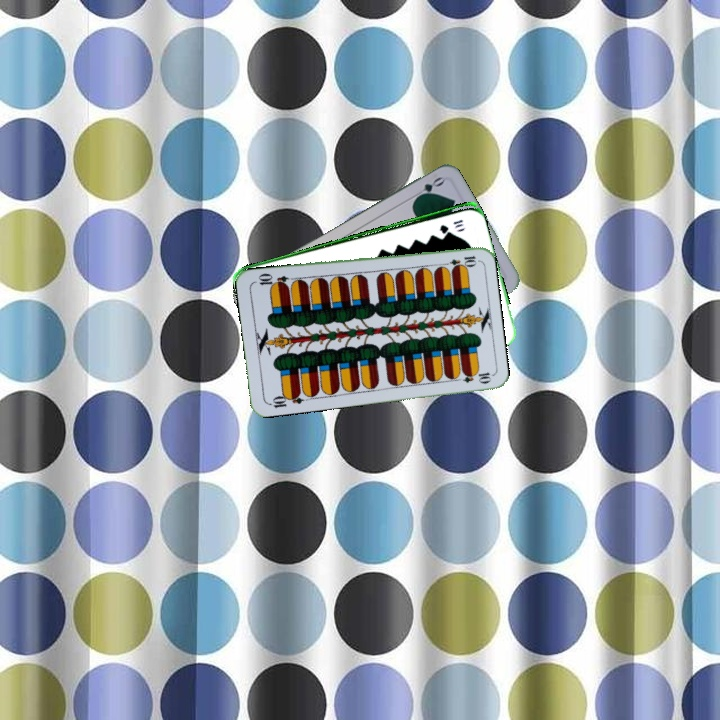E10: (265, 388, 306, 410), (438, 252, 479, 269)
G10: (435, 216, 465, 234)
GO: (409, 173, 447, 203)
